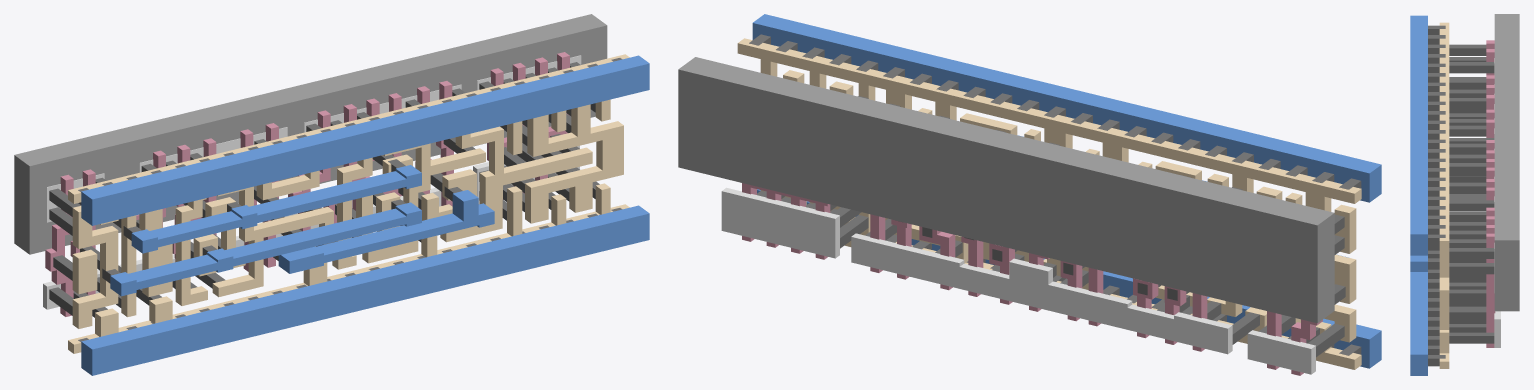
File: sky130_fd_sc_hd__dfrtp_4.gds.gltf
3 renders of one model, left to right at view 1: azimuth 30°, elevation 25°; view 2: azimuth 150°, elevation 25°; view 3: azimuth 270°, elevation 25°, orthographic. The views are drawn at different scales.
Visible parts, largest first — view 1: sky130_fd_sc_hd__dfrtp_4_met1, sky130_fd_sc_hd__dfrtp_4_li1, sky130_fd_sc_hd__dfrtp_4_nwell, sky130_fd_sc_hd__dfrtp_4_poly, sky130_fd_sc_hd__dfrtp_4_licon, sky130_fd_sc_hd__dfrtp_4_diff, sky130_fd_sc_hd__dfrtp_4_mcon; view 2: sky130_fd_sc_hd__dfrtp_4_nwell, sky130_fd_sc_hd__dfrtp_4_li1, sky130_fd_sc_hd__dfrtp_4_diff, sky130_fd_sc_hd__dfrtp_4_met1, sky130_fd_sc_hd__dfrtp_4_poly, sky130_fd_sc_hd__dfrtp_4_mcon, sky130_fd_sc_hd__dfrtp_4_licon; view 3: sky130_fd_sc_hd__dfrtp_4_licon, sky130_fd_sc_hd__dfrtp_4_nwell, sky130_fd_sc_hd__dfrtp_4_met1, sky130_fd_sc_hd__dfrtp_4_mcon, sky130_fd_sc_hd__dfrtp_4_li1, sky130_fd_sc_hd__dfrtp_4_poly, sky130_fd_sc_hd__dfrtp_4_diff.
Part boxes in pixels (x1,y1,x2,y2): sky130_fd_sc_hd__dfrtp_4_met1: (81,55,649,375); sky130_fd_sc_hd__dfrtp_4_li1: (68,54,629,353); sky130_fd_sc_hd__dfrtp_4_nwell: (14,14,607,254); sky130_fd_sc_hd__dfrtp_4_poly: (45,52,569,316); sky130_fd_sc_hd__dfrtp_4_licon: (49,62,599,317); sky130_fd_sc_hd__dfrtp_4_diff: (43,55,581,309); sky130_fd_sc_hd__dfrtp_4_mcon: (78,58,622,342); sky130_fd_sc_hd__dfrtp_4_nwell: (678,57,1334,323); sky130_fd_sc_hd__dfrtp_4_li1: (737,38,1361,369); sky130_fd_sc_hd__dfrtp_4_diff: (721,187,1315,374); sky130_fd_sc_hd__dfrtp_4_met1: (752,14,1381,368); sky130_fd_sc_hd__dfrtp_4_poly: (742,183,1322,375); sky130_fd_sc_hd__dfrtp_4_mcon: (749,34,1361,355); sky130_fd_sc_hd__dfrtp_4_licon: (757,96,1345,357); sky130_fd_sc_hd__dfrtp_4_licon: (1449,44,1494,343); sky130_fd_sc_hd__dfrtp_4_nwell: (1494,14,1519,311); sky130_fd_sc_hd__dfrtp_4_met1: (1410,15,1427,375); sky130_fd_sc_hd__dfrtp_4_mcon: (1428,25,1445,366); sky130_fd_sc_hd__dfrtp_4_li1: (1439,22,1449,368); sky130_fd_sc_hd__dfrtp_4_poly: (1486,40,1495,347); sky130_fd_sc_hd__dfrtp_4_diff: (1494,58,1500,347).
Bounding box in the file's own units: 10.96 × 3.2 × 2.24.
